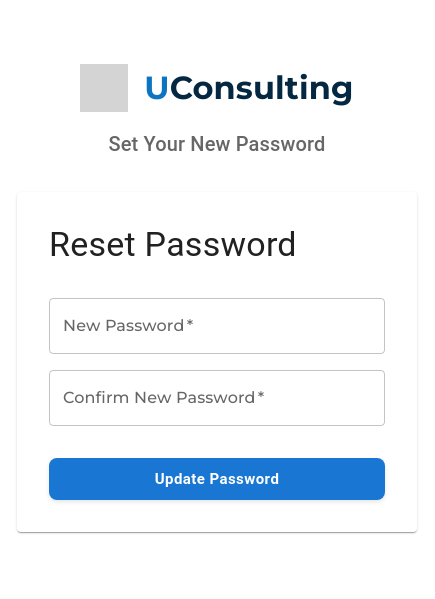
Test case: ResetPassword › does not submit when the new password is empty
Step 1. Type "password1" into the password field labelled "Confirm New Password *" → (217, 398), box [49,370,385,426]
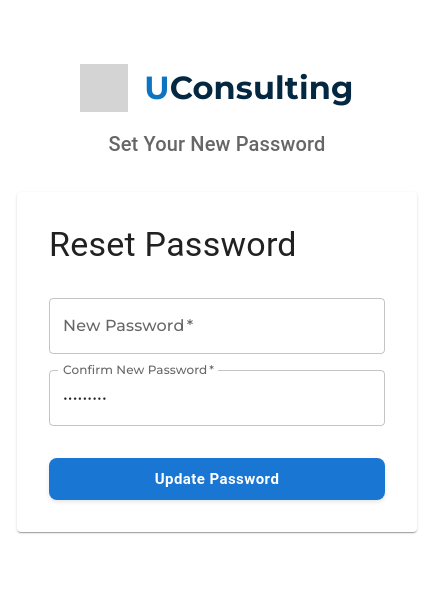
Step 2. Submit the form with test id "reset-password-form", box [49,298,385,500]
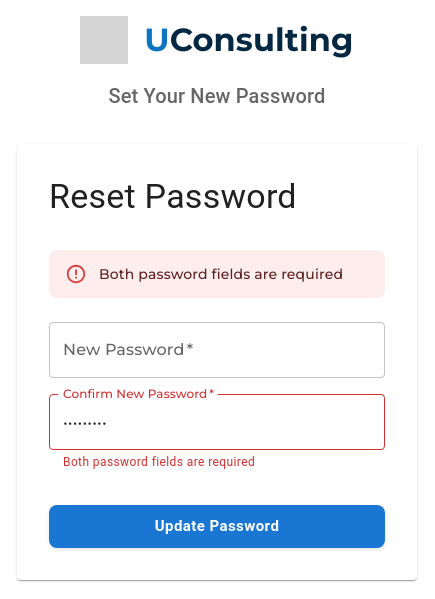
Check: the text "Both password fields are required" below "Confirm New Password" is shown, box [63,455,255,469]
